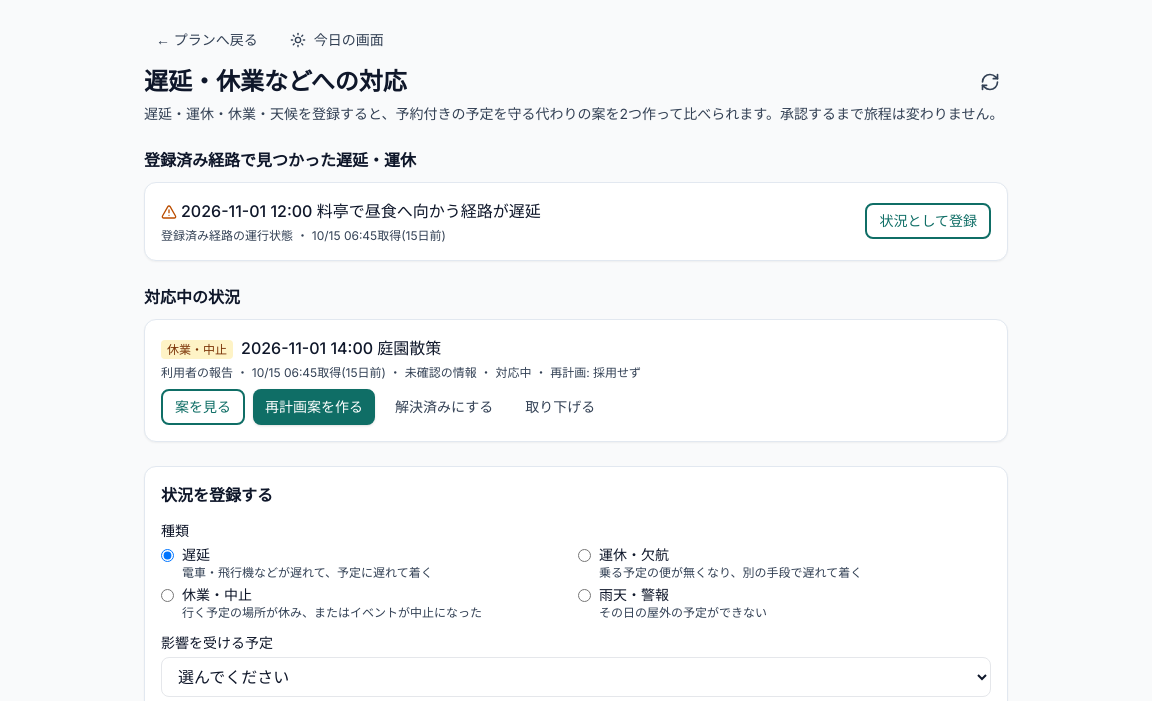
it: AlertsPage (Gate P10) › 対応中・解決済みと、検出した経路の遅延を示す
Expected: the list named "対応中の状況" shows "休業・中止", [167, 342, 227, 357]
Expected: the list named "対応中の状況" shows "庭園散策", [241, 338, 441, 358]
Click the button "状況として登録": (928, 221) [865, 203, 991, 239]
(page scrolled)
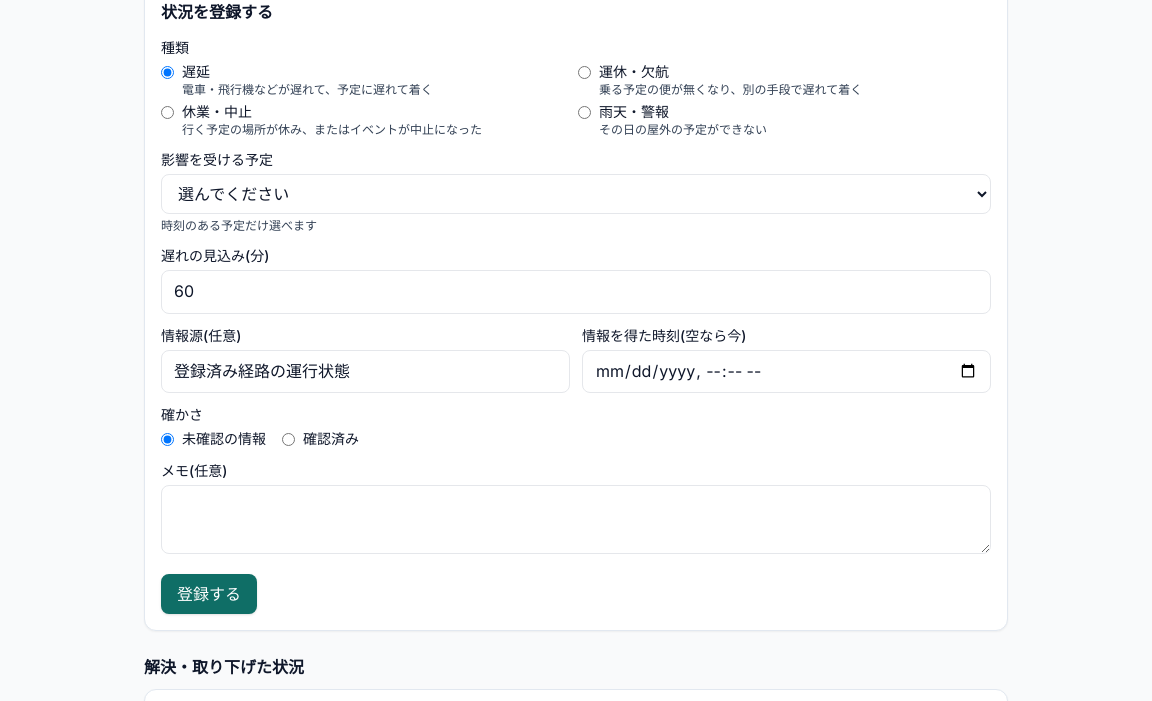
Result: the field labelled "情報源(任意)" holds "登録済み経路の運行状態" at [161, 350, 570, 393]
